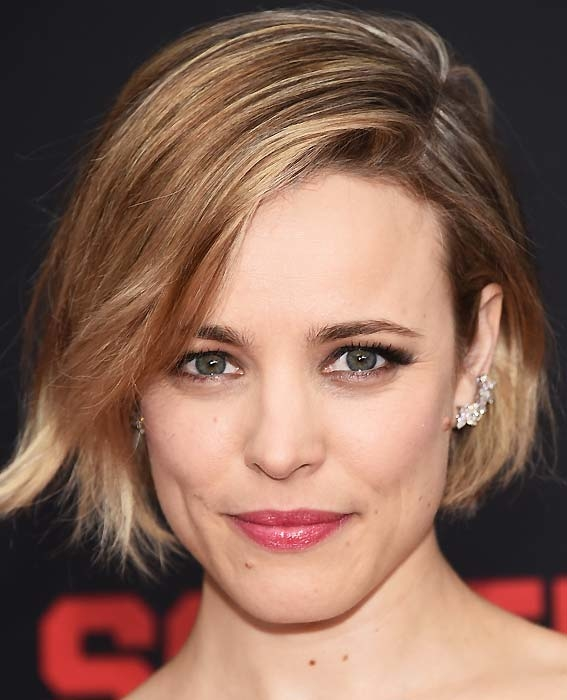mole: (435, 411, 455, 433), (236, 552, 255, 575), (338, 649, 360, 666), (304, 655, 322, 670)
